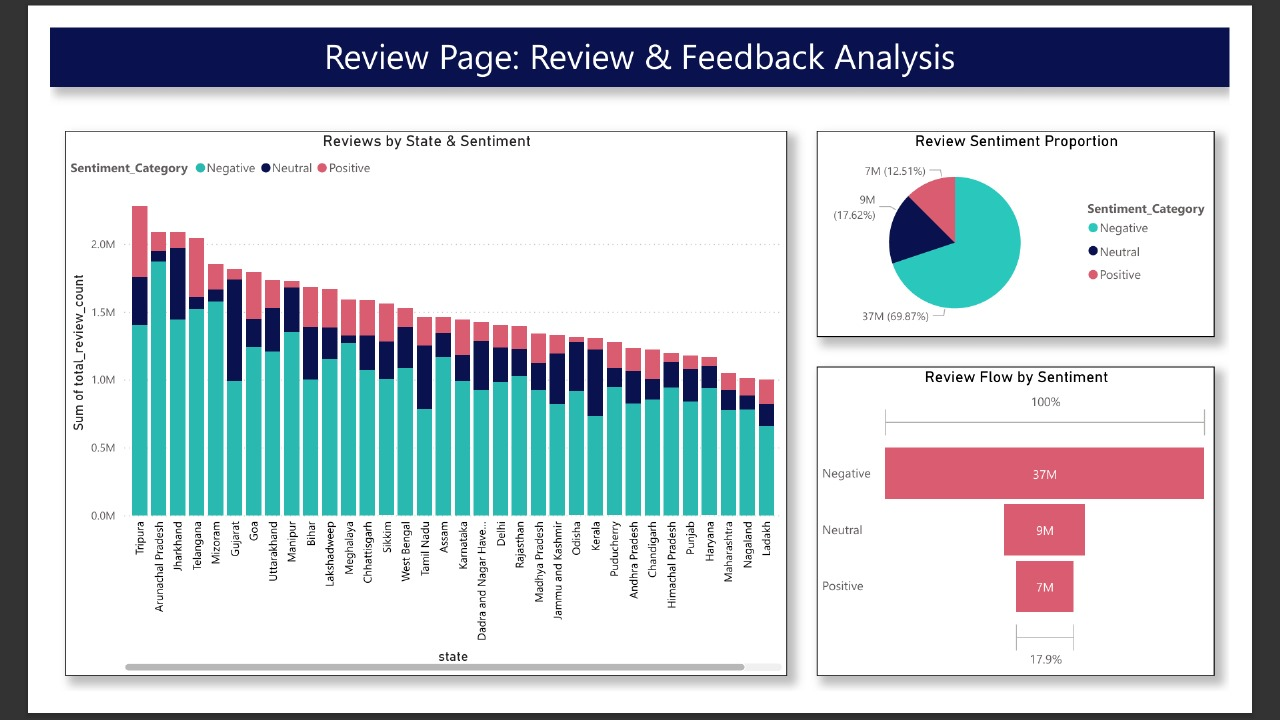

What the dashboard file says about the page in this screenshot:
{"tool":"powerbi","page":{"name":"Page 2","canvas":[1280,720],"ordinal":1},"visuals":[{"type":"textbox","box":[0,0,1280,64],"z":0},{"type":"columnChart","title":"Reviews by State & Sentiment","fields":{"Y":["Sum(indian_tourism_synthetic_data.total_review_count)"],"Category":["indian_tourism_synthetic_data.state"],"Series":["tourism_data.Sentiment_Category"]},"box":[16,112,784,592],"z":1000},{"type":"pieChart","title":"Review Sentiment Proportion","fields":{"Category":["tourism_data.Sentiment_Category"],"Y":["Sum(tourism_data.total_review_count)"]},"box":[832,112,432,224],"z":2000},{"type":"funnel","title":"Review Flow by Sentiment","fields":{"Category":["tourism_data.Sentiment_Category"],"Y":["Sum(tourism_data.total_review_count)"]},"box":[832,368,432,336],"z":3000}]}

Visuals, with their boxes in screenshot pixels (x1, y1, x2, y2), scaled from the page's 1280x720 canvas onto the 1280x720 screenshot:
textbox: detection(0, 0, 1279, 64)
"Reviews by State & Sentiment" columnChart: detection(16, 112, 800, 704)
"Review Sentiment Proportion" pieChart: detection(832, 112, 1264, 336)
"Review Flow by Sentiment" funnel: detection(832, 368, 1264, 704)
